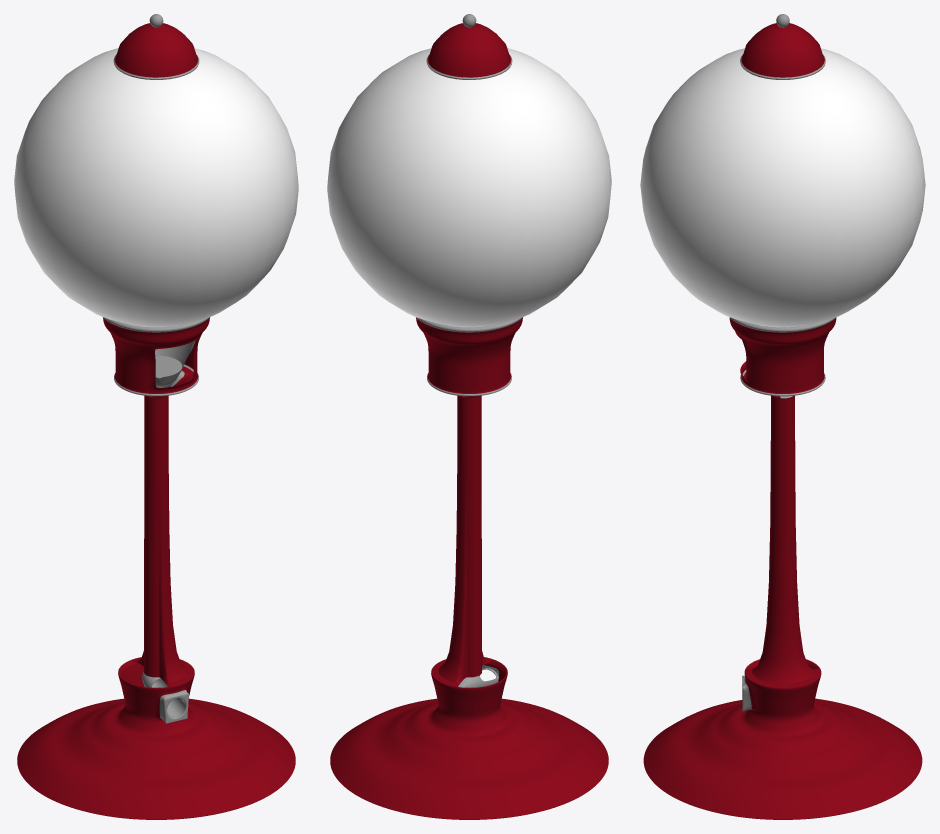
The model's file is PillDispenser.fbx.
3 views of the same model, side by side, from view 1: azimuth 30°, elevation 25°; view 2: azimuth 150°, elevation 25°; view 3: azimuth 270°, elevation 25° (orthographic).
Visible parts, largest first — view 1: Bubble Gum Dispenser; view 2: Bubble Gum Dispenser; view 3: Bubble Gum Dispenser.
Boxes of the visible parts, left/top/right/bottom form: Bubble Gum Dispenser: left=14, top=14, right=298, bottom=819; Bubble Gum Dispenser: left=327, top=14, right=611, bottom=819; Bubble Gum Dispenser: left=640, top=14, right=925, bottom=819.
Size of the model in its own units: 200 by 578 by 200.
